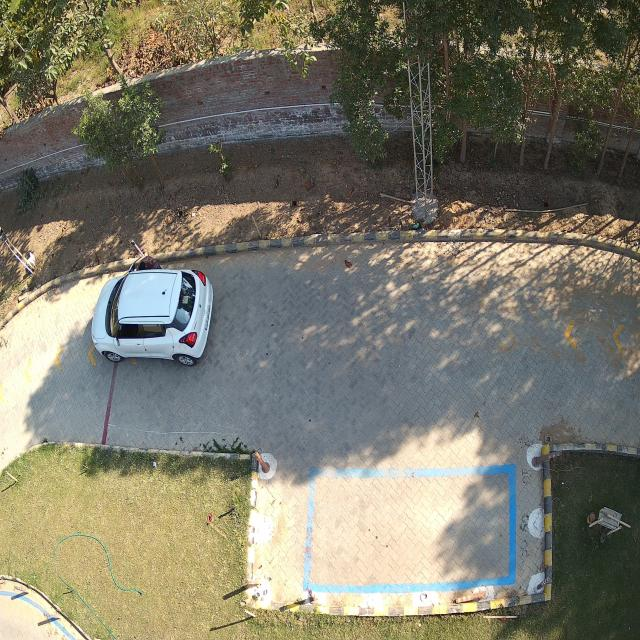car: (91, 268, 214, 365)
